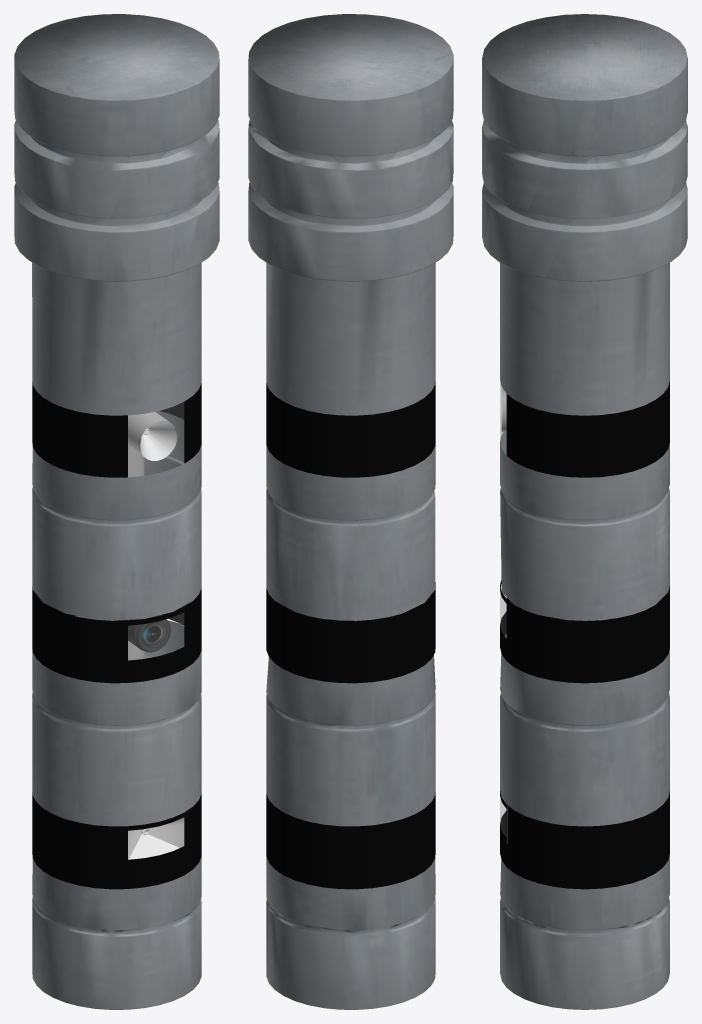
The model's file is dxb-radar.glb.
The picture shows the model from 3 angles, left to right: view 1: azimuth 30°, elevation 25°; view 2: azimuth 150°, elevation 25°; view 3: azimuth 270°, elevation 25°; orthographic projection.
Parts seen in each view (by area): view 1: Redar, Redar Int; view 2: Redar; view 3: Redar.
Boxes of the visible parts, x1,y1,x2,y2 form: Redar: (14,14,219,1009); Redar Int: (112,411,184,859); Redar: (248,14,453,1009); Redar: (482,14,687,1009).
Bounding box in the file's own units: 0.8642 × 4.25 × 0.864.
Materials: 13 (3 with a texture image).
